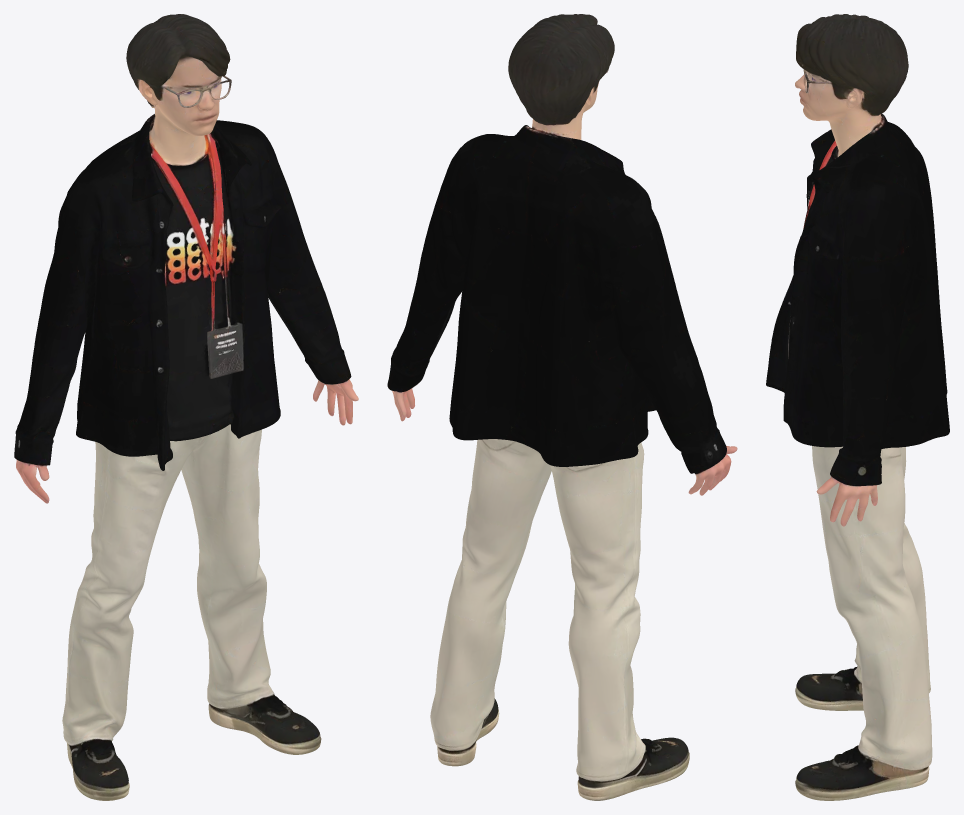
The model's file is jafar.glb.
The picture shows the model from 3 angles, left to right: view 1: azimuth 30°, elevation 25°; view 2: azimuth 150°, elevation 25°; view 3: azimuth 270°, elevation 25°; orthographic projection. The views are drawn at different scales.
Size of the model in its own units: 0.891 by 1.9 by 0.4368.
Materials: 1 (1 with a texture image).
